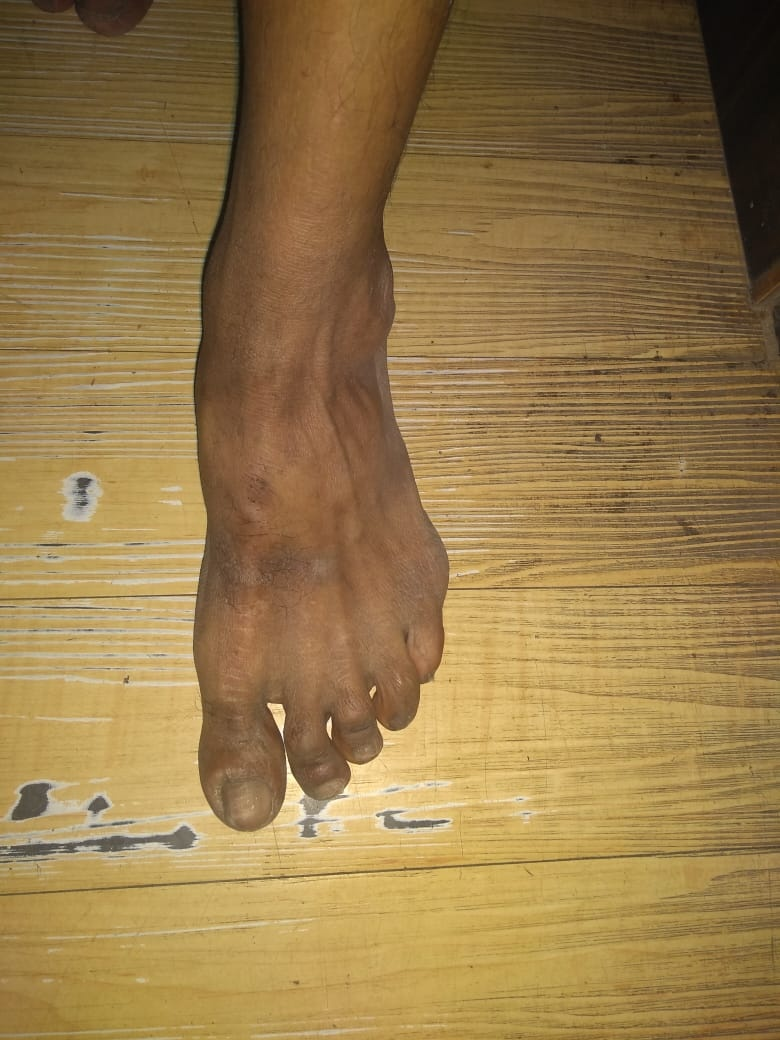feet: (119, 217, 468, 827)
